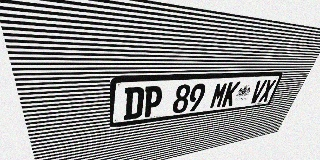8: (171, 84, 192, 114)
9: (186, 83, 207, 112)
D: (123, 86, 145, 120)
K: (221, 81, 241, 107)
M: (209, 82, 229, 109)
P: (142, 85, 164, 118)
V: (248, 80, 267, 104)
X: (258, 79, 277, 102)
